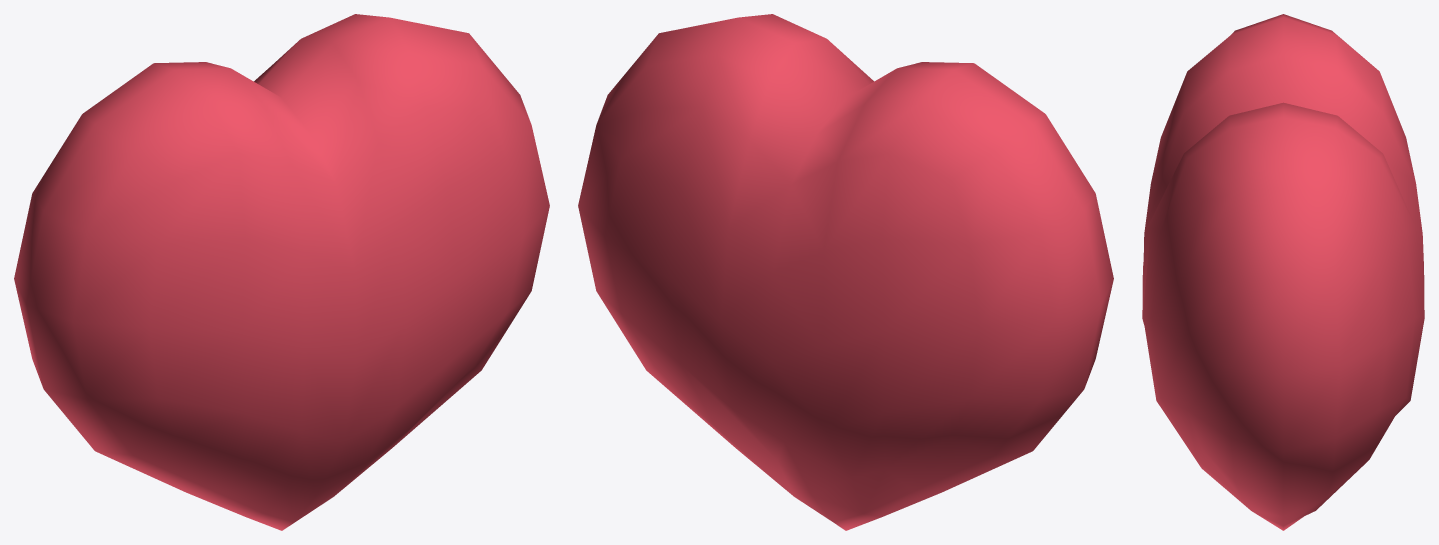
The model's file is heart.fbx.
3 renders of one model, left to right at view 1: azimuth 30°, elevation 25°; view 2: azimuth 150°, elevation 25°; view 3: azimuth 270°, elevation 25°, orthographic. The views are drawn at different scales.
Parts seen in each view (by area): view 1: polySurface7; view 2: polySurface7; view 3: polySurface7.
Boxes of the visible parts, <box> form: polySurface7: <box>14,14,549,530</box>; polySurface7: <box>578,14,1113,530</box>; polySurface7: <box>1142,14,1424,530</box>.
Bounding box in the file's own units: 1.05 × 0.9593 × 0.5293.
1 material, 1 textured.
